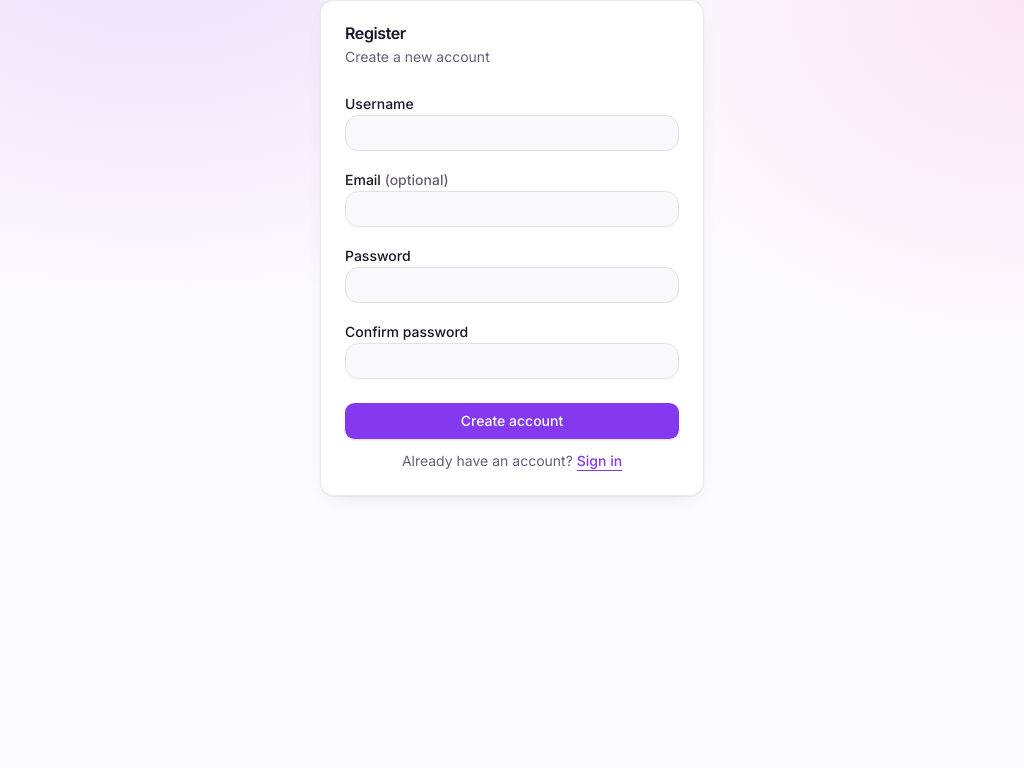
RegisterPage — the password rule › does not send a password shorter than the server accepts
The width and height of the screenshot is (1024, 768).
Type "alice" into the field labelled "Username" at (512, 133), box [345,115,679,151]
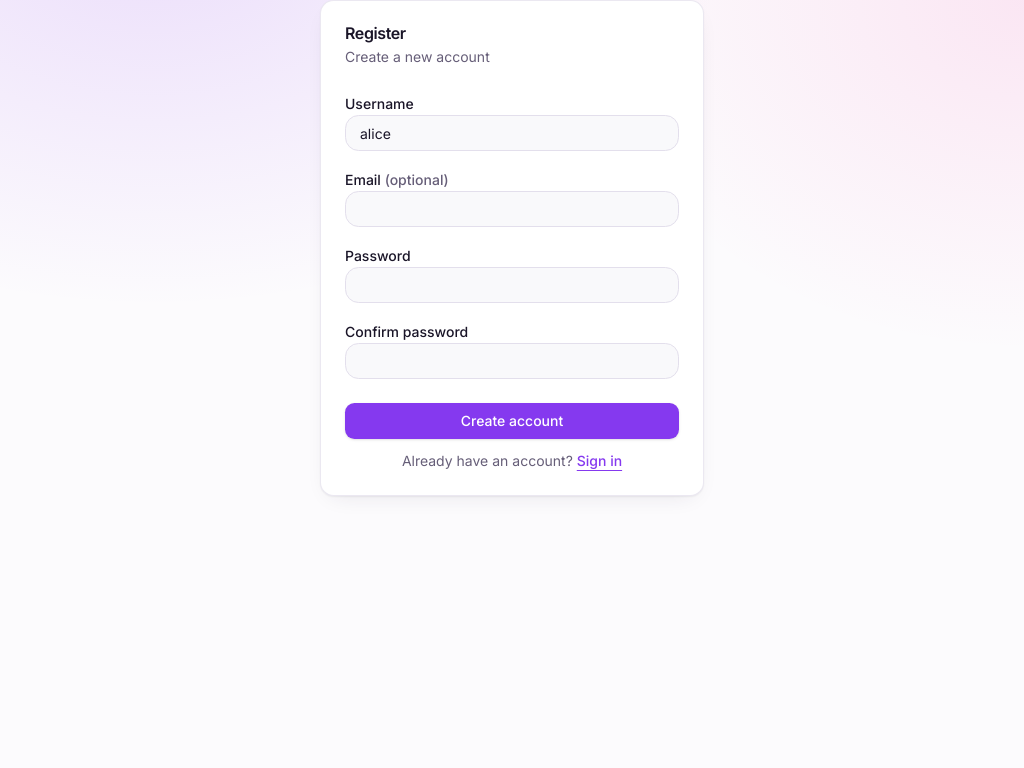
Type "short" into the password field labelled "Password" at (512, 285), box [345,267,679,303]
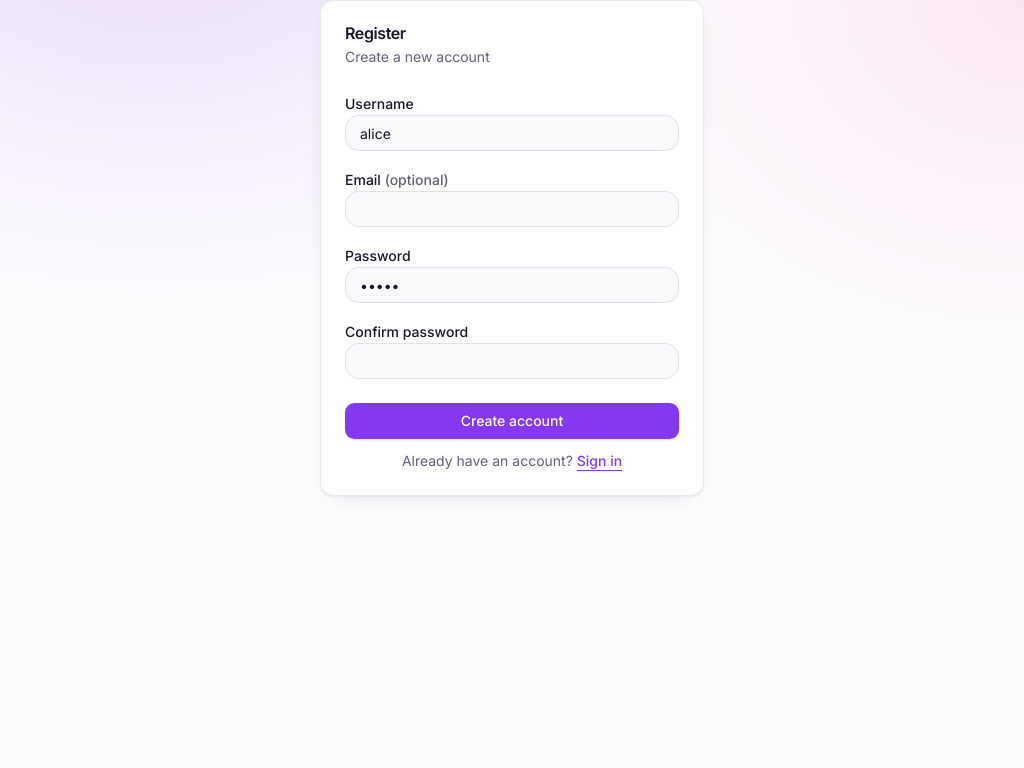
Type "short" into the password field labelled "Confirm password" at (512, 361), box [345,343,679,379]
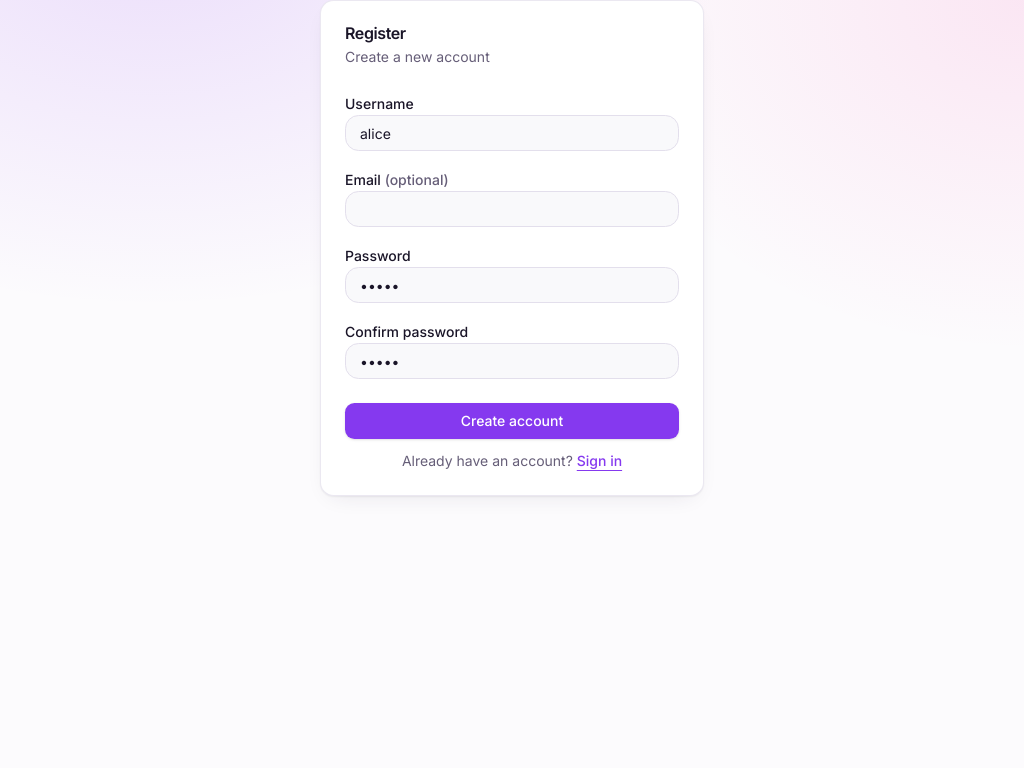
Click the button "Create account" at (512, 421), box [345,403,679,439]
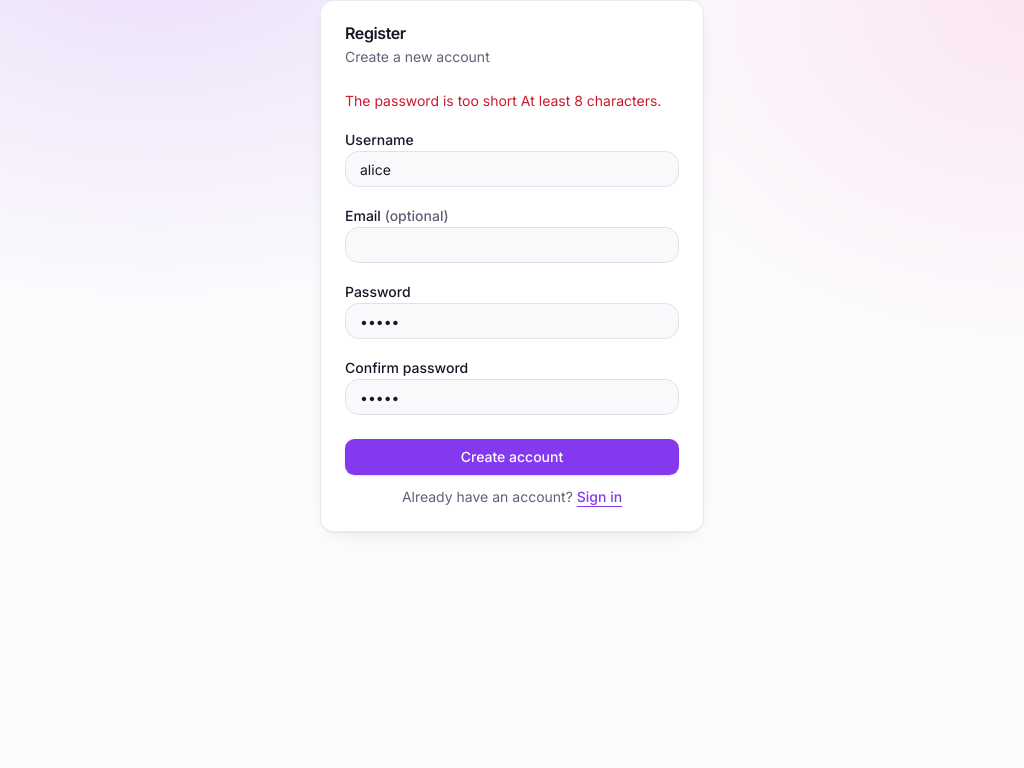
Check: the text "The password is too short At least 8 characters." is shown, box [345,91,679,111]
